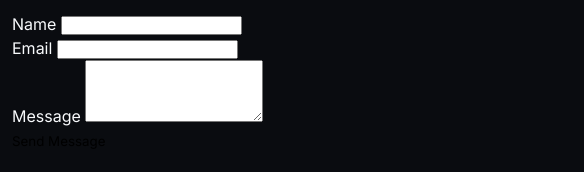
ContactForm › Validation - Message › fails for short message
Type "Hi" into the text box with id "contact-message".
click(174, 91); type("Hi")  # box [85, 60, 263, 122]
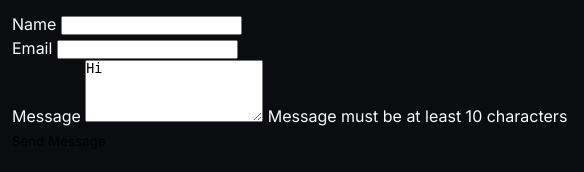
Result: the message with id "message-error" shows "at least 10" at [268, 106, 567, 126]
